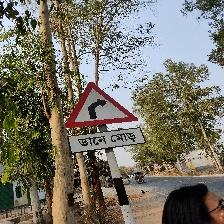Right-turn: (64, 82, 146, 155)
